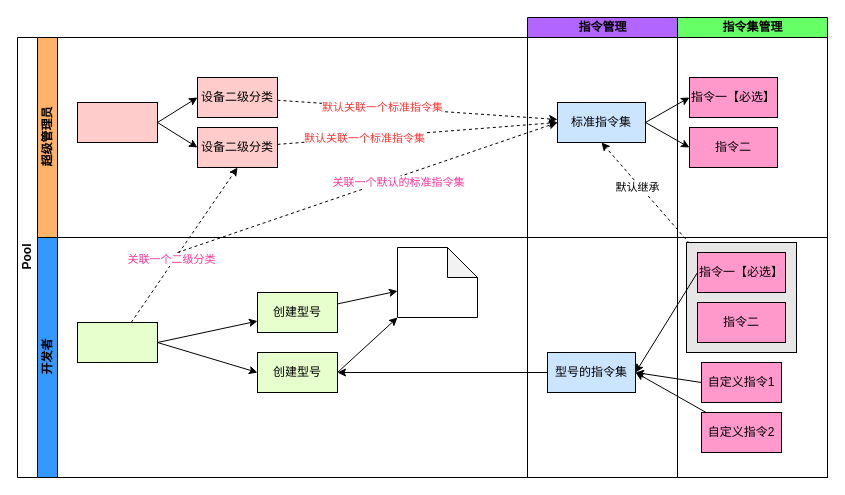
Some shapes in this 845 by 495 pixel diagram are drawn without their labels. The shapes that lost their labels are listed below. From the top down, each one's centre as x and y in pixels, then its label:
At (x=117, y=122): "设备一级分类".
At (x=437, y=282): "默认继承品类的标准指令集".
At (x=117, y=342): "创建品类".
